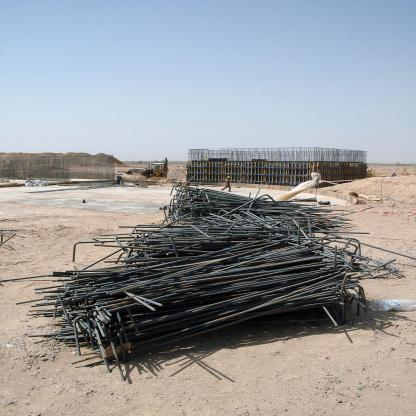rebar: (53, 187, 365, 357)
